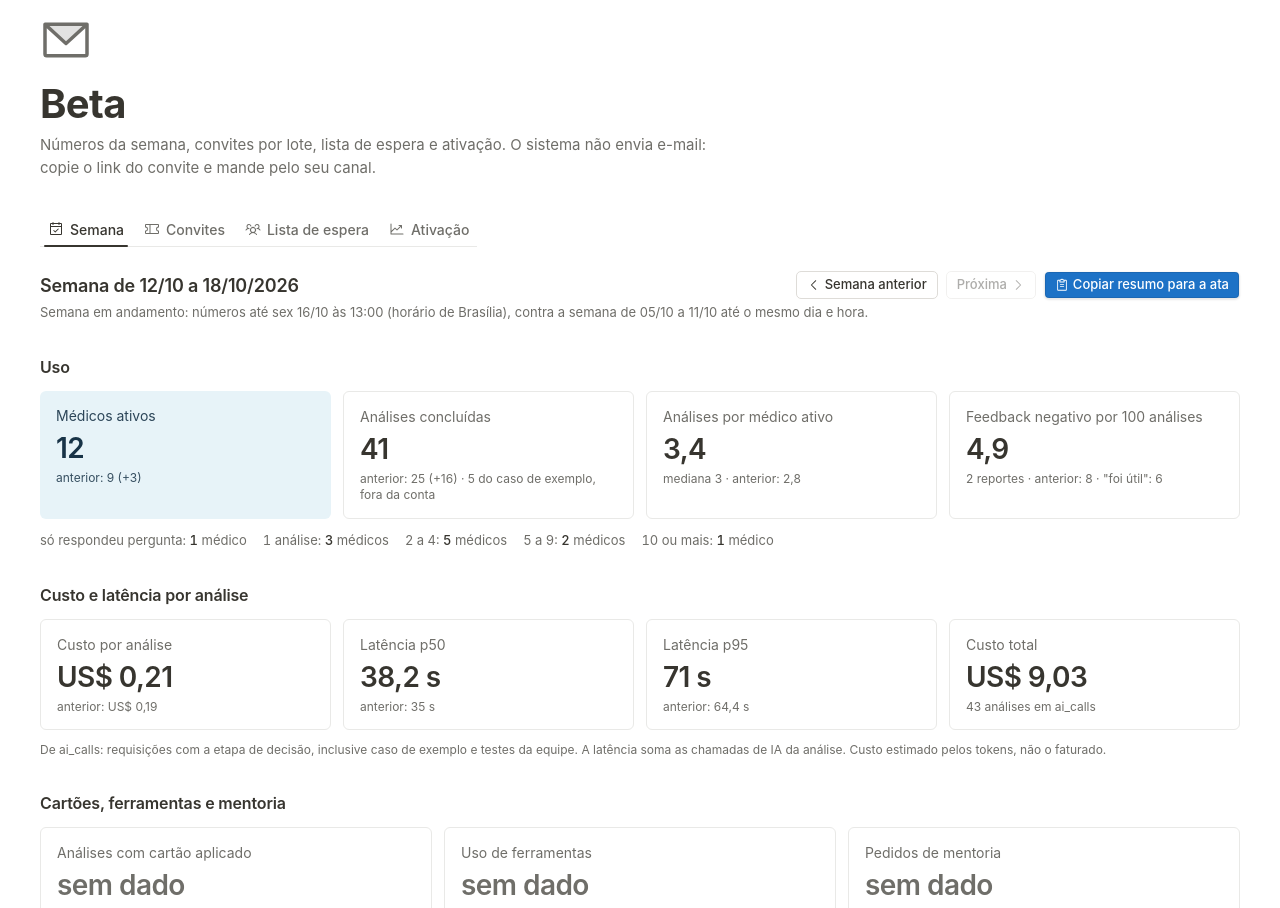
Test: Console admin — beta (CC-702) › lists invites with status, uses and batch totals
Click the tab "Convites". click: click(184, 229)
box: [136,211,233,247]
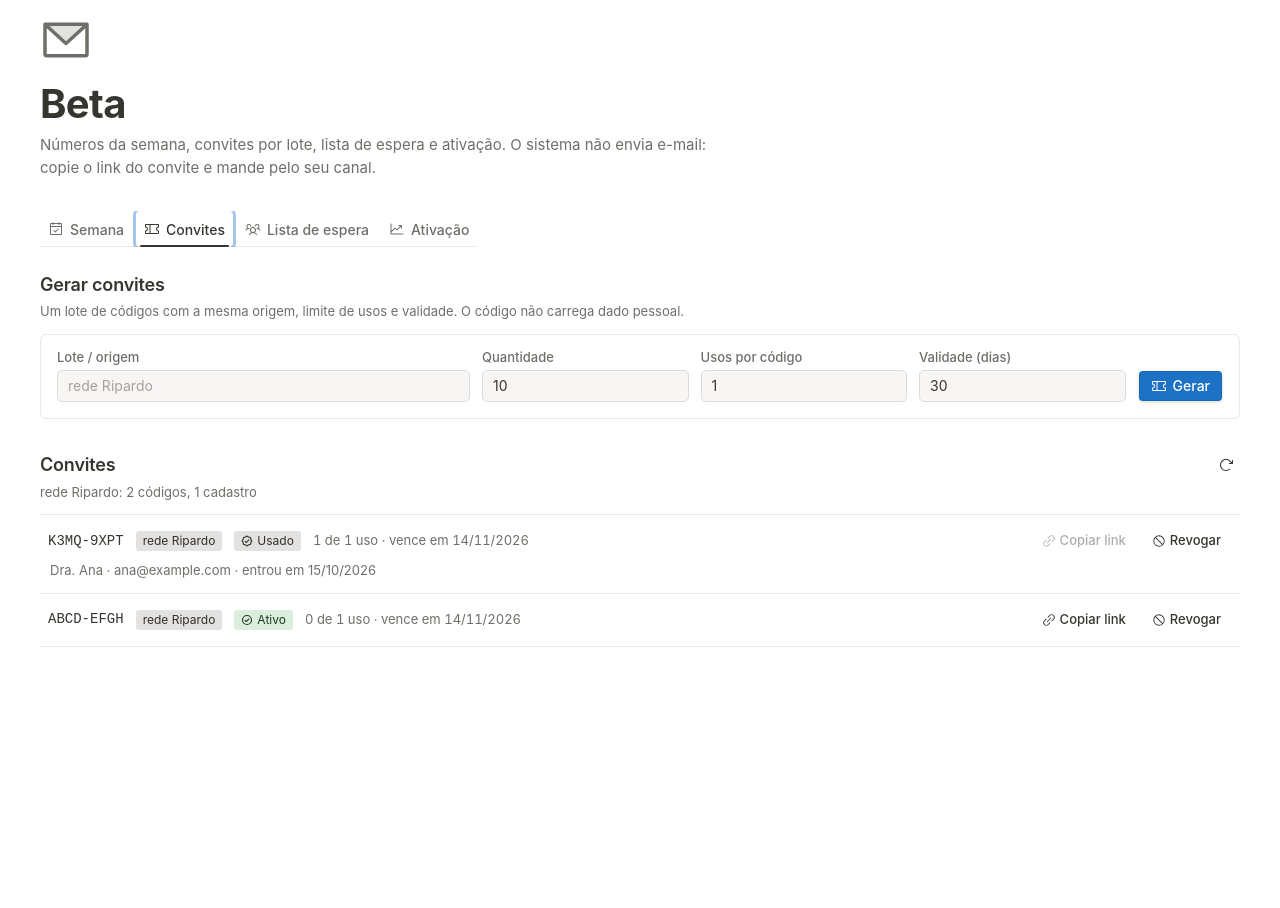
Expected: the text "K3MQ-9XPT" is shown, [48,530,124,552]
Expected: the text "Usado" is shown, [234,531,301,551]
Expected: the list named "Usos do convite K3MQ-9XPT" shows "Dra. Ana · ana@example.com", [50,562,376,578]
